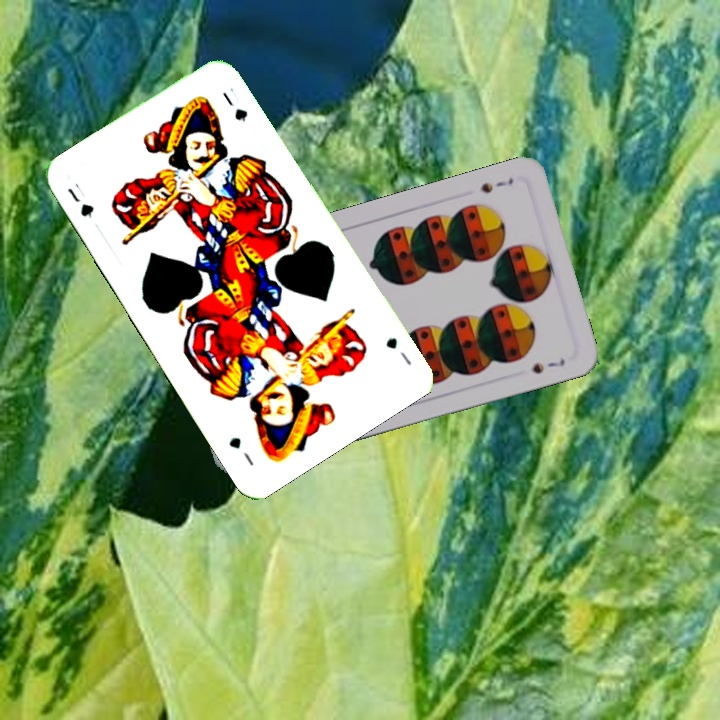GU: (63, 183, 97, 220), (381, 333, 415, 368)
S7: (477, 173, 516, 196)
